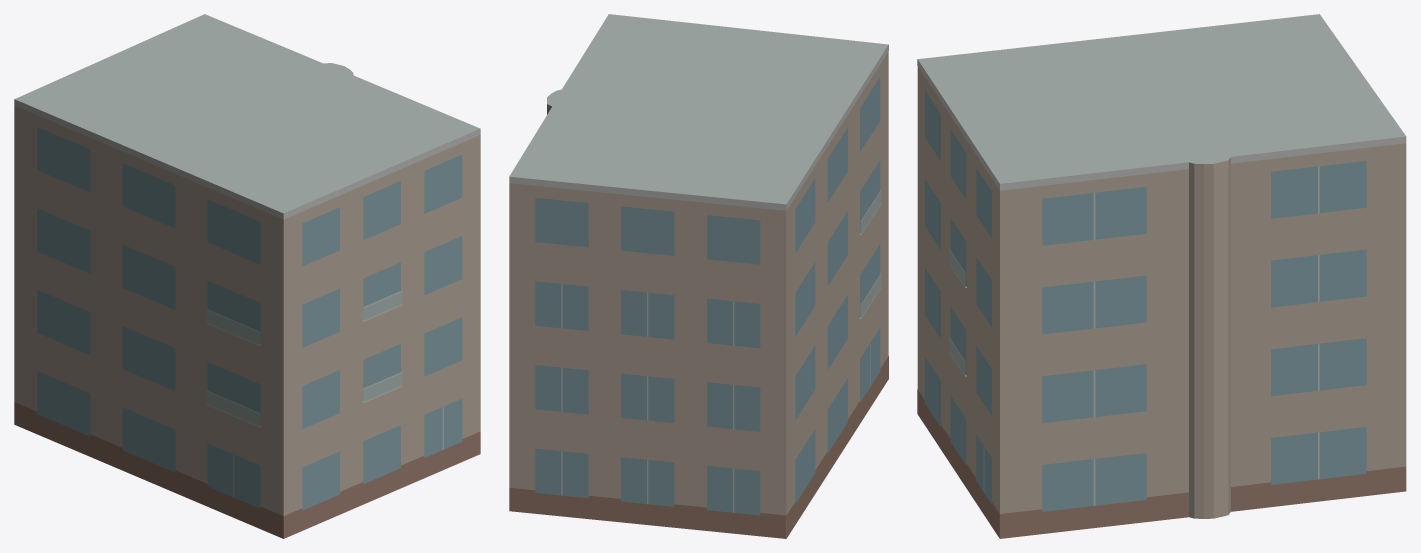
The model's file is survey-upis-32584521.glb.
3 views of the same model, side by side, from view 1: azimuth 30°, elevation 25°; view 2: azimuth 150°, elevation 25°; view 3: azimuth 270°, elevation 25° (orthographic). The views are drawn at different scales.
Visible parts, largest first — view 1: survey-upis-32584521.tmp; view 2: survey-upis-32584521.tmp; view 3: survey-upis-32584521.tmp.
Boxes of the visible parts, x1,y1,x2,y2 form: survey-upis-32584521.tmp: [14, 14, 480, 538]; survey-upis-32584521.tmp: [509, 14, 888, 538]; survey-upis-32584521.tmp: [917, 14, 1406, 538].
Bounding box in the file's own units: 13.11 × 12.75 × 15.93.
